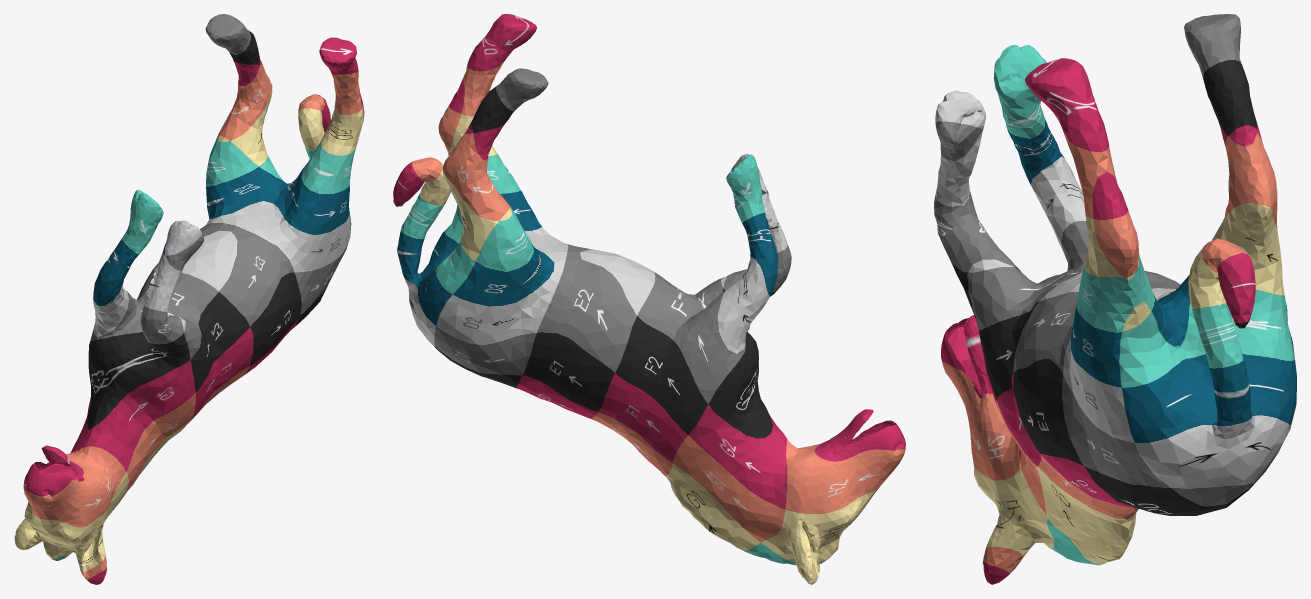
File: cougar_02-horse_09.obj
The picture shows the model from 3 angles, left to right: view 1: azimuth 30°, elevation 25°; view 2: azimuth 150°, elevation 25°; view 3: azimuth 270°, elevation 25°; orthographic projection. The views are drawn at different scales.
Parts seen in each view (by area): view 1: cougar_02-horse_09_export; view 2: cougar_02-horse_09_export; view 3: cougar_02-horse_09_export.
Part boxes in pixels (x1,y1,x2,y2): cougar_02-horse_09_export: (14,14,364,584); cougar_02-horse_09_export: (393,14,905,584); cougar_02-horse_09_export: (934,14,1296,584).
Bounding box in the file's own units: 0.8115 × 0.9212 × 0.4211.
